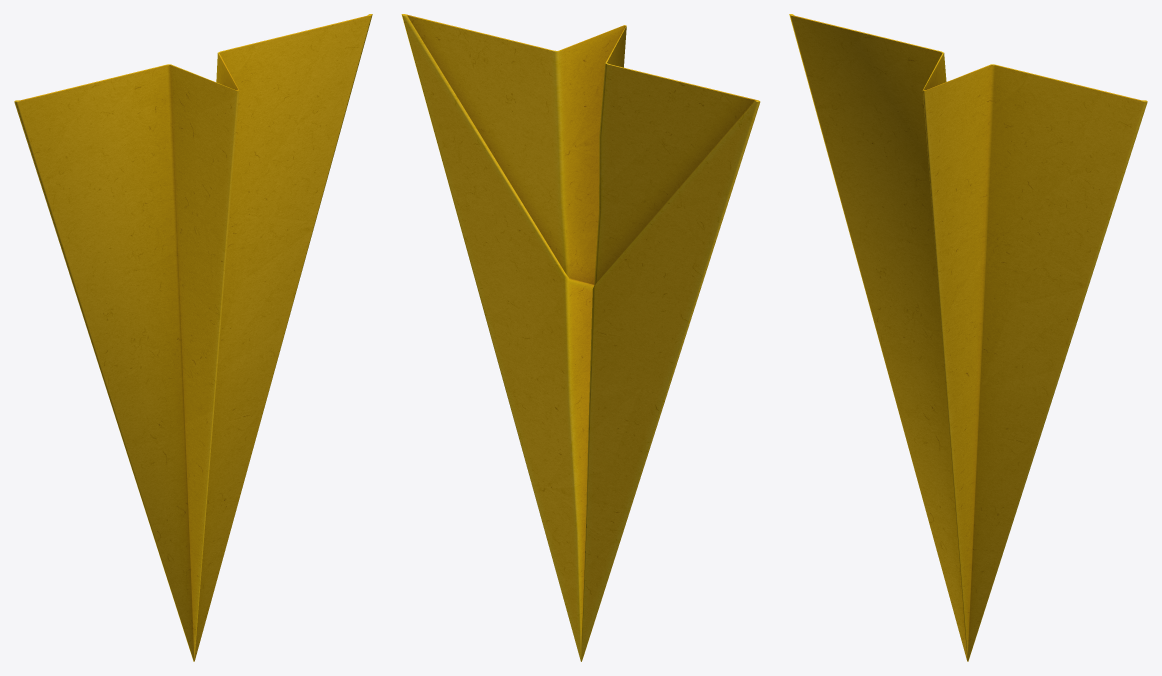
File: hl_ramp_paper_Small.fbx
3 renders of one model, left to right at view 1: azimuth 30°, elevation 25°; view 2: azimuth 150°, elevation 25°; view 3: azimuth 330°, elevation 25°, orthographic.
Parts seen in each view (by area): view 1: hl_ramp_paper_Small; view 2: hl_ramp_paper_Small; view 3: hl_ramp_paper_Small.
Part boxes in pixels (<box>): hl_ramp_paper_Small: <box>14,14,372,661</box>; hl_ramp_paper_Small: <box>401,14,760,661</box>; hl_ramp_paper_Small: <box>789,14,1147,661</box>.
Size of the model in its own units: 26.18 by 42.12 by 5.99.
